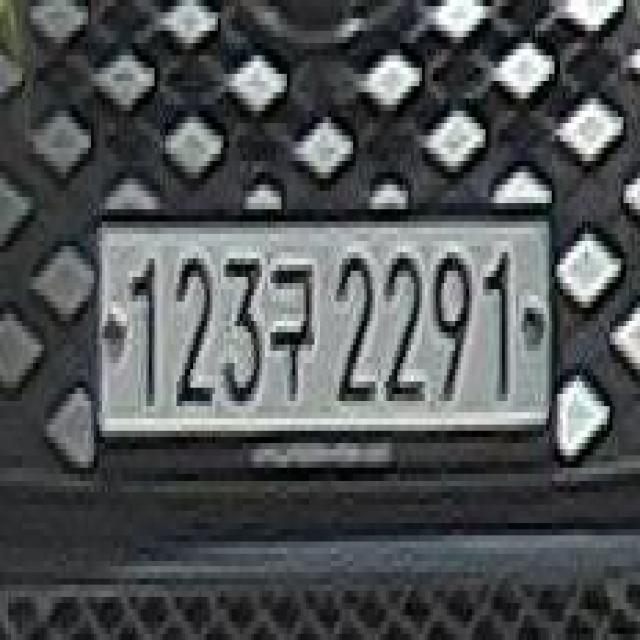illegal_plate: (90, 192, 558, 485)
